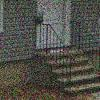stairs: (43, 44, 100, 95)
